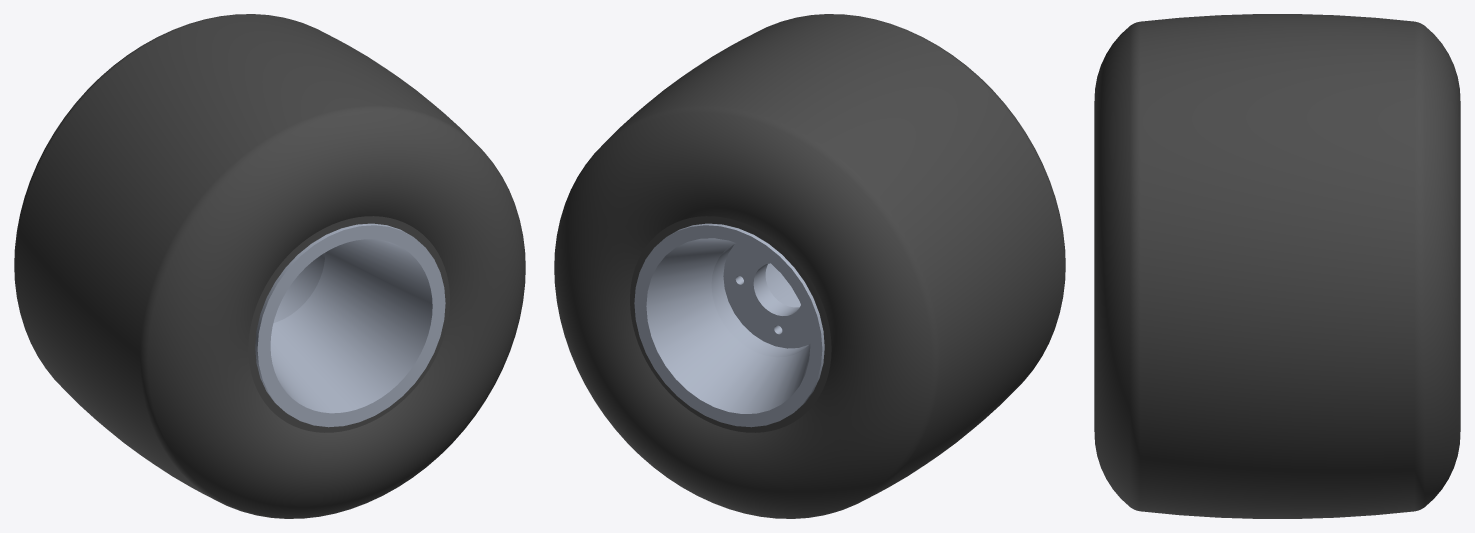
Rendered from rear_wheel.obj.
3 renders of one model, left to right at view 1: azimuth 30°, elevation 25°; view 2: azimuth 150°, elevation 25°; view 3: azimuth 270°, elevation 25°, orthographic. The views are drawn at different scales.
Visible parts, largest first — view 1: mesh38, mesh36, mesh14, mesh15, mesh37, mesh39, mesh13, mesh35, mesh16; view 2: mesh34, mesh36, mesh4, mesh5, mesh35, mesh33, mesh2, mesh3, mesh37, mesh11, mesh6, mesh14; view 3: mesh36, mesh34, mesh38, mesh35, mesh37.
Boxes of the visible parts, x1=… form: mesh38: x1=148, y1=112, x2=525, y2=518; mesh36: x1=15, y1=14, x2=481, y2=498; mesh14: x1=270, y1=239, x2=432, y2=413; mesh15: x1=257, y1=225, x2=445, y2=427; mesh37: x1=140, y1=105, x2=525, y2=518; mesh39: x1=248, y1=216, x2=449, y2=432; mesh13: x1=273, y1=253, x2=325, y2=322; mesh35: x1=14, y1=14, x2=295, y2=358; mesh16: x1=255, y1=223, x2=413, y2=412; mesh34: x1=554, y1=112, x2=931, y2=518; mesh36: x1=605, y1=14, x2=1064, y2=500; mesh4: x1=646, y1=238, x2=810, y2=413; mesh5: x1=634, y1=225, x2=822, y2=427; mesh35: x1=554, y1=105, x2=939, y2=518; mesh33: x1=630, y1=216, x2=831, y2=432; mesh2: x1=723, y1=243, x2=809, y2=348; mesh3: x1=711, y1=244, x2=808, y2=357; mesh37: x1=795, y1=14, x2=1065, y2=355; mesh11: x1=753, y1=264, x2=799, y2=315; mesh6: x1=666, y1=223, x2=824, y2=412; mesh14: x1=765, y1=263, x2=800, y2=307; mesh36: x1=1140, y1=14, x2=1414, y2=518; mesh34: x1=1425, y1=26, x2=1460, y2=506; mesh38: x1=1094, y1=26, x2=1129, y2=506; mesh35: x1=1414, y1=21, x2=1424, y2=511; mesh37: x1=1130, y1=21, x2=1140, y2=511.
Bounding box in the file's own units: 0.2887 × 0.2885 × 0.2093.
